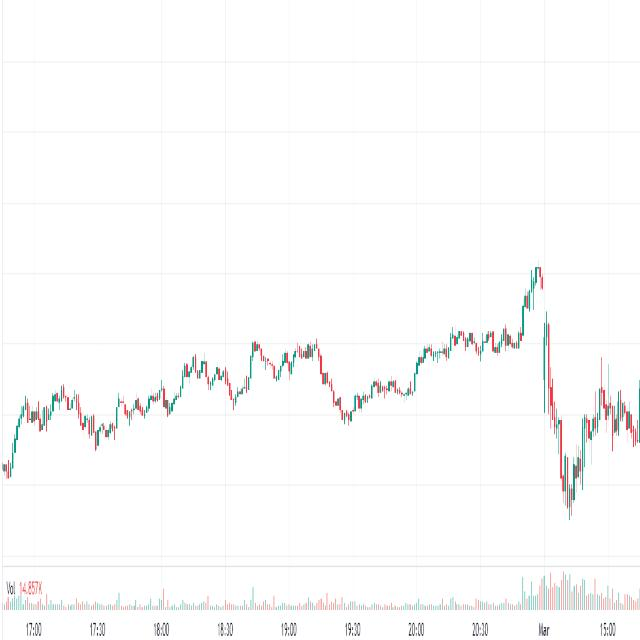Inverse-Head-Shoulders: (542, 341, 604, 528)
